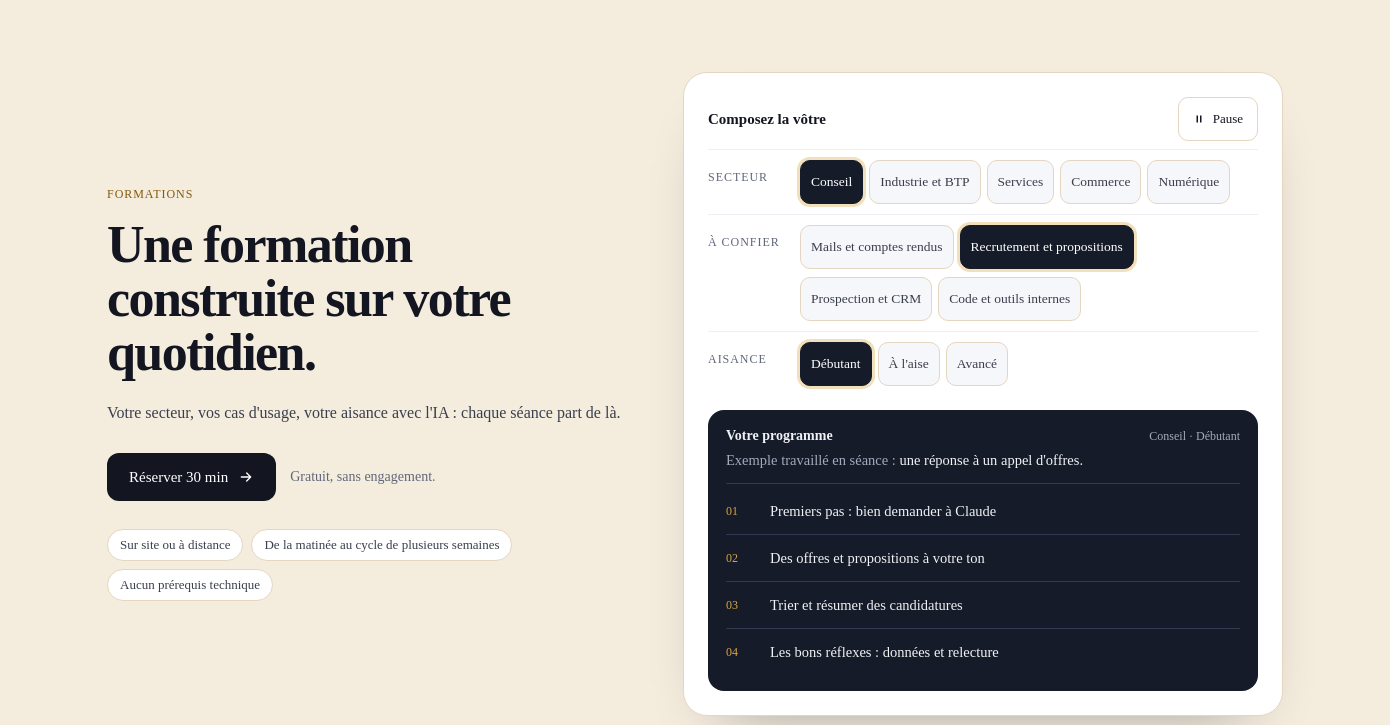
Scenario: auto-demo › hover on the programme pauses it, leaving resumes it
This screenshot has width=1390, height=725.
Step 1. Hover over the element that starts with "Secteur" → coordinates (983, 420), box left=708, top=149, right=1258, bottom=691
Expected: the text "Conseil · Débutant" is shown, left=1149, top=429, right=1240, bottom=444
Step 2. Move the pointer off the element that starts with "Secteur", box left=708, top=149, right=1258, bottom=691
Wait 1700 ms
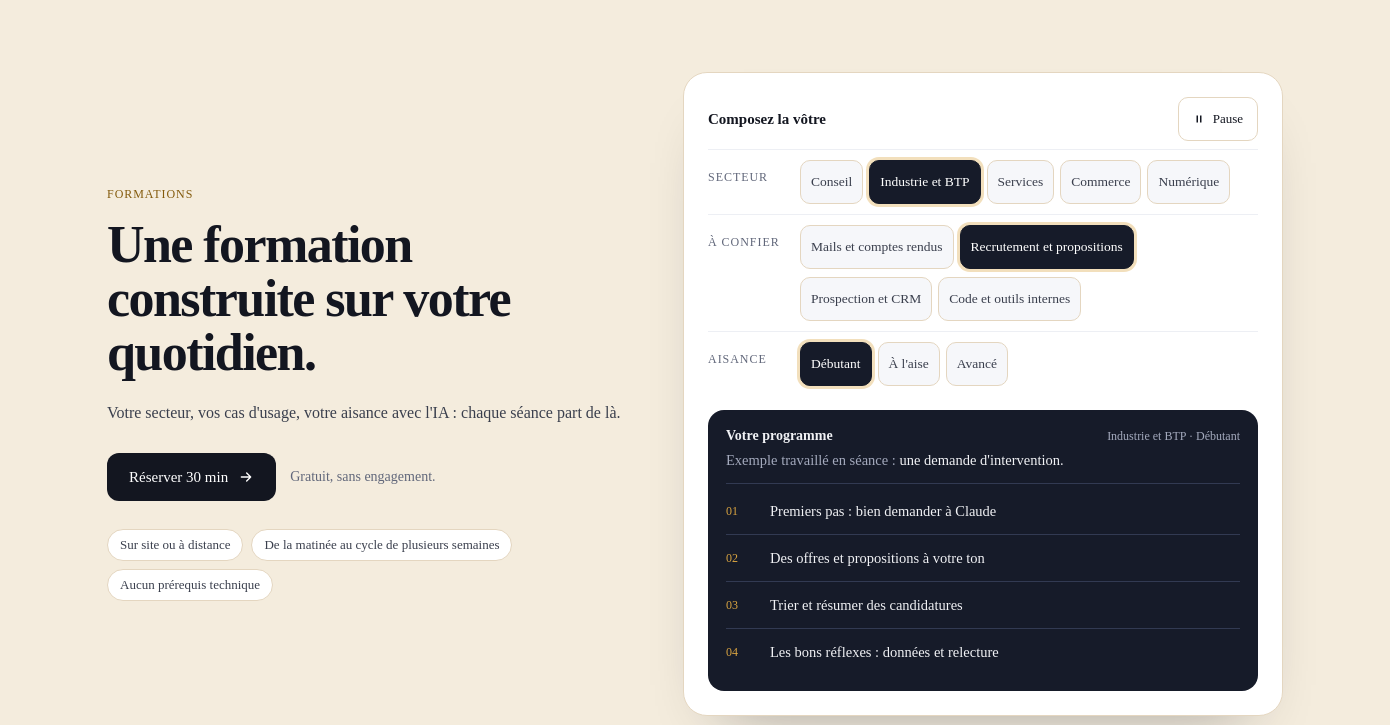
Expected: the text "Conseil · Débutant" is gone
